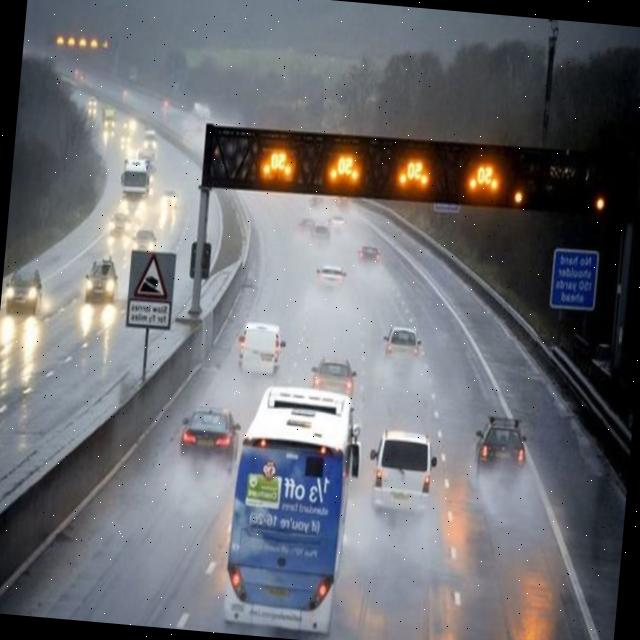bus: (118, 159, 154, 211), (101, 104, 117, 132)
car: (370, 430, 433, 504), (178, 406, 238, 458), (476, 421, 528, 470), (235, 320, 282, 374), (308, 356, 358, 401), (3, 264, 44, 310), (85, 256, 120, 299), (382, 325, 422, 359), (313, 260, 347, 291), (130, 225, 158, 254), (107, 210, 132, 234), (354, 242, 381, 264)
truck: (216, 382, 356, 634)
